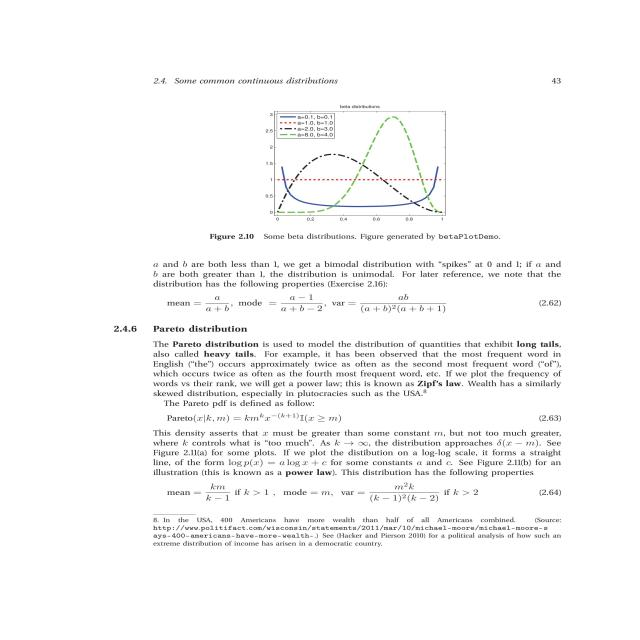diagram: (133, 73, 521, 245)
